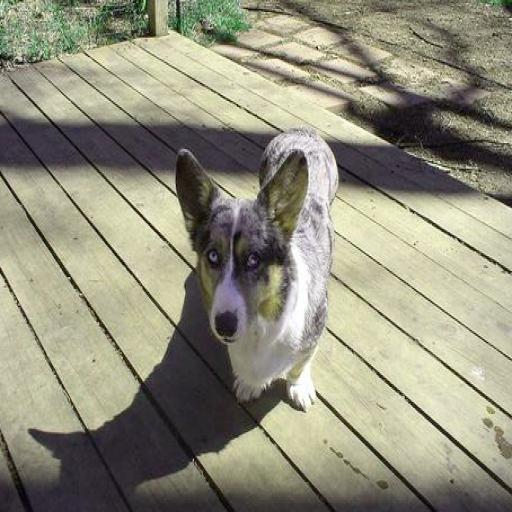dog_face: (172, 147, 306, 347)
